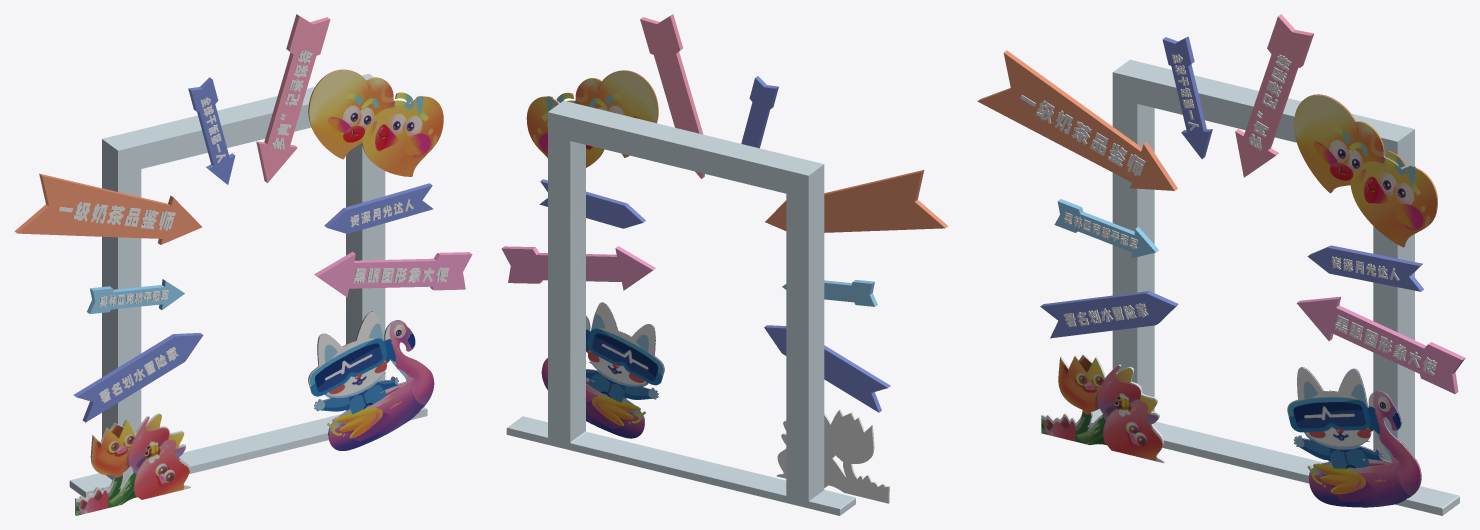
The model's file is 置物架.gltf.
3 views of the same model, side by side, from view 1: azimuth 30°, elevation 25°; view 2: azimuth 150°, elevation 25°; view 3: azimuth 330°, elevation 25° (orthographic). The views are drawn at different scales.
Visible parts, largest first — view 1: 挤压-材质.2 (×7), 挤压.9, 挤压.8, 挤压.7, 挤压.2-材质, 挤压.1; view 2: 挤压.9, 挤压-材质.2 (×7), 挤压.8, 挤压.7, 挤压.2-材质.1; view 3: 挤压-材质.2 (×7), 挤压.9, 挤压.8, 挤压.7, 挤压.2-材质, 挤压.1.
Part boxes in pixels (left/top/right/bottom): 挤压-材质.2 (×7): left=14, top=14, right=472, bottom=422; 挤压.9: left=69, top=73, right=427, bottom=497; 挤压.8: left=308, top=311, right=434, bottom=450; 挤压.7: left=308, top=69, right=443, bottom=176; 挤压.2-材质: left=76, top=414, right=190, bottom=515; 挤压.1: left=58, top=50, right=449, bottom=403; 挤压.9: left=506, top=100, right=855, bottom=515; 挤压-材质.2 (×7): left=501, top=14, right=948, bottom=412; 挤压.8: left=541, top=302, right=664, bottom=438; 挤压.7: left=526, top=70, right=658, bottom=167; 挤压.2-材质.1: left=776, top=409, right=889, bottom=503; 挤压-材质.2 (×7): left=977, top=14, right=1465, bottom=394; 挤压.9: left=1078, top=59, right=1459, bottom=515; 挤压.8: left=1287, top=367, right=1421, bottom=507; 挤压.7: left=1293, top=94, right=1437, bottom=247; 挤压.2-材质: left=1041, top=355, right=1163, bottom=463; 挤压.1: left=1020, top=54, right=1436, bottom=375.
Size of the model in its own units: 14.6 by 13.67 by 1.66.
10 materials, 3 textured.
